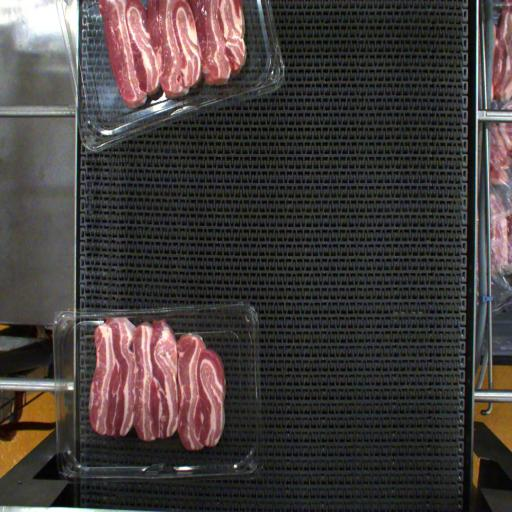packaging-error: (88, 298, 136, 332)
